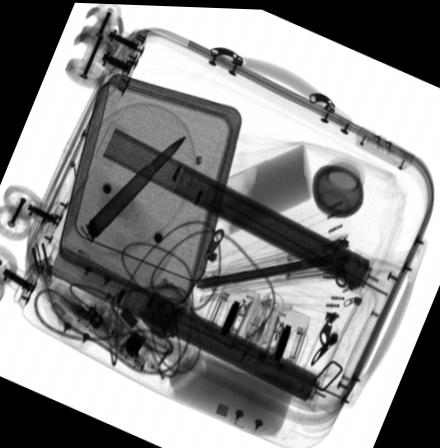Bullet: (85, 130, 187, 240)
